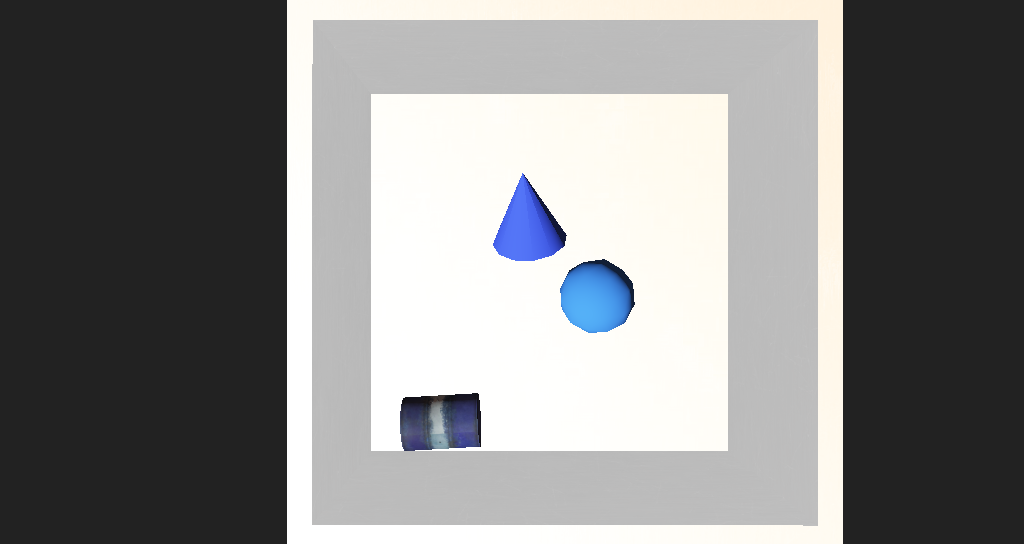cone: (381, 339, 455, 377)
cylinder: (448, 193, 522, 265)
sphere: (515, 258, 576, 305)
